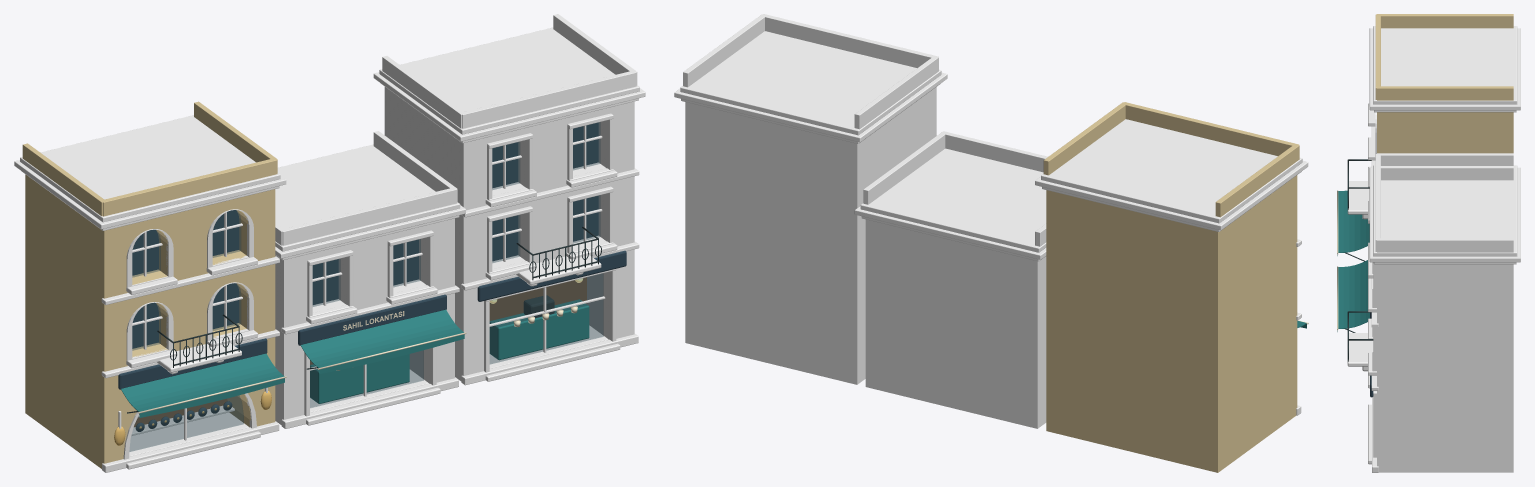
File: DistrictBlock_3_2.glb
The picture shows the model from 3 angles, left to right: view 1: azimuth 30°, elevation 25°; view 2: azimuth 150°, elevation 25°; view 3: azimuth 270°, elevation 25°; orthographic projection. The views are drawn at different scales.
Visible parts, largest first — view 1: RK_DistrictBlock_3_2_LC_Lime, RK_DistrictBlock_3_2_LC_Ochre, RK_DistrictBlock_3_2_LC_Brick, RK_DistrictBlock_3_2_LC_Glass, RK_DistrictBlock_3_2_LC_Coral, RK_DistrictBlock_3_2_LC_Teal, RK_DistrictBlock_3_2_LC_Ink, RK_DistrictBlock_3_2_LC_Wood, RK_DistrictBlock_3_2_LC_Iron, RK_DistrictBlock_3_2_LC_Interior, RK_DistrictBlock_3_2_LC_Canvas; view 2: RK_DistrictBlock_3_2_LC_Ochre, RK_DistrictBlock_3_2_LC_Brick, RK_DistrictBlock_3_2_LC_Lime, RK_DistrictBlock_3_2_LC_Coral; view 3: RK_DistrictBlock_3_2_LC_Brick, RK_DistrictBlock_3_2_LC_Lime, RK_DistrictBlock_3_2_LC_Ochre, RK_DistrictBlock_3_2_LC_Teal, RK_DistrictBlock_3_2_LC_Coral, RK_DistrictBlock_3_2_LC_Iron, RK_DistrictBlock_3_2_LC_Canvas.
Part boxes in pixels (x1,y1,x2,y2): RK_DistrictBlock_3_2_LC_Lime: [14, 27, 645, 472]; RK_DistrictBlock_3_2_LC_Ochre: [22, 101, 277, 468]; RK_DistrictBlock_3_2_LC_Brick: [382, 14, 637, 380]; RK_DistrictBlock_3_2_LC_Glass: [129, 122, 603, 451]; RK_DistrictBlock_3_2_LC_Coral: [275, 131, 457, 424]; RK_DistrictBlock_3_2_LC_Teal: [121, 299, 589, 417]; RK_DistrictBlock_3_2_LC_Ink: [118, 122, 626, 431]; RK_DistrictBlock_3_2_LC_Wood: [118, 125, 608, 456]; RK_DistrictBlock_3_2_LC_Iron: [127, 227, 601, 413]; RK_DistrictBlock_3_2_LC_Interior: [134, 277, 586, 426]; RK_DistrictBlock_3_2_LC_Canvas: [138, 306, 577, 413]; RK_DistrictBlock_3_2_LC_Ochre: [1043, 102, 1299, 472]; RK_DistrictBlock_3_2_LC_Brick: [683, 14, 938, 384]; RK_DistrictBlock_3_2_LC_Lime: [674, 31, 1308, 415]; RK_DistrictBlock_3_2_LC_Coral: [863, 131, 1047, 428]; RK_DistrictBlock_3_2_LC_Brick: [1375, 166, 1513, 472]; RK_DistrictBlock_3_2_LC_Lime: [1347, 26, 1520, 472]; RK_DistrictBlock_3_2_LC_Ochre: [1375, 14, 1513, 153]; RK_DistrictBlock_3_2_LC_Teal: [1337, 190, 1369, 331]; RK_DistrictBlock_3_2_LC_Coral: [1375, 153, 1513, 166]; RK_DistrictBlock_3_2_LC_Iron: [1344, 159, 1373, 361]; RK_DistrictBlock_3_2_LC_Canvas: [1337, 190, 1338, 330].
Bounding box in the file's own units: 19.1 × 9.02 × 6.44.
